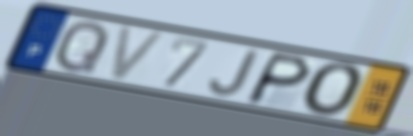7: (162, 36, 212, 91)
J: (207, 48, 262, 98)
O: (299, 61, 367, 120)
P: (242, 50, 315, 107)
Q: (53, 19, 112, 75)
V: (107, 23, 171, 84)
